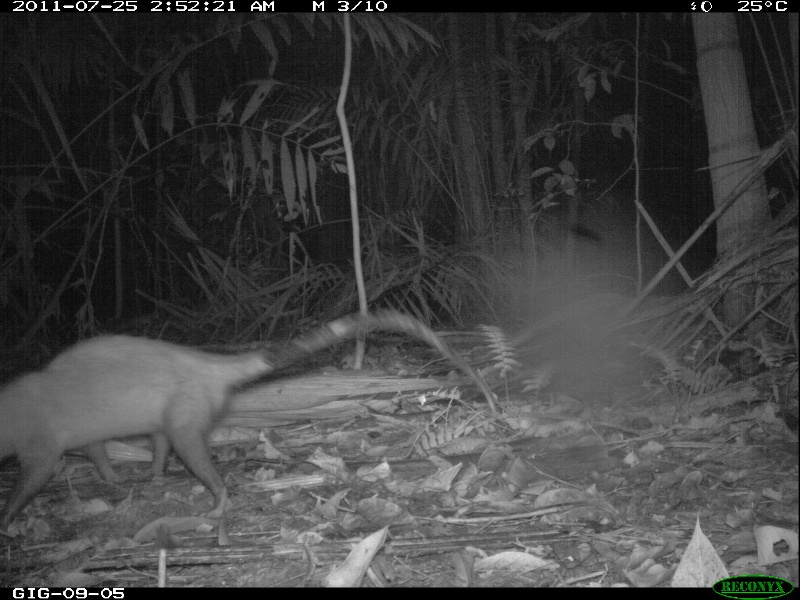opossum: (1, 307, 505, 534)
